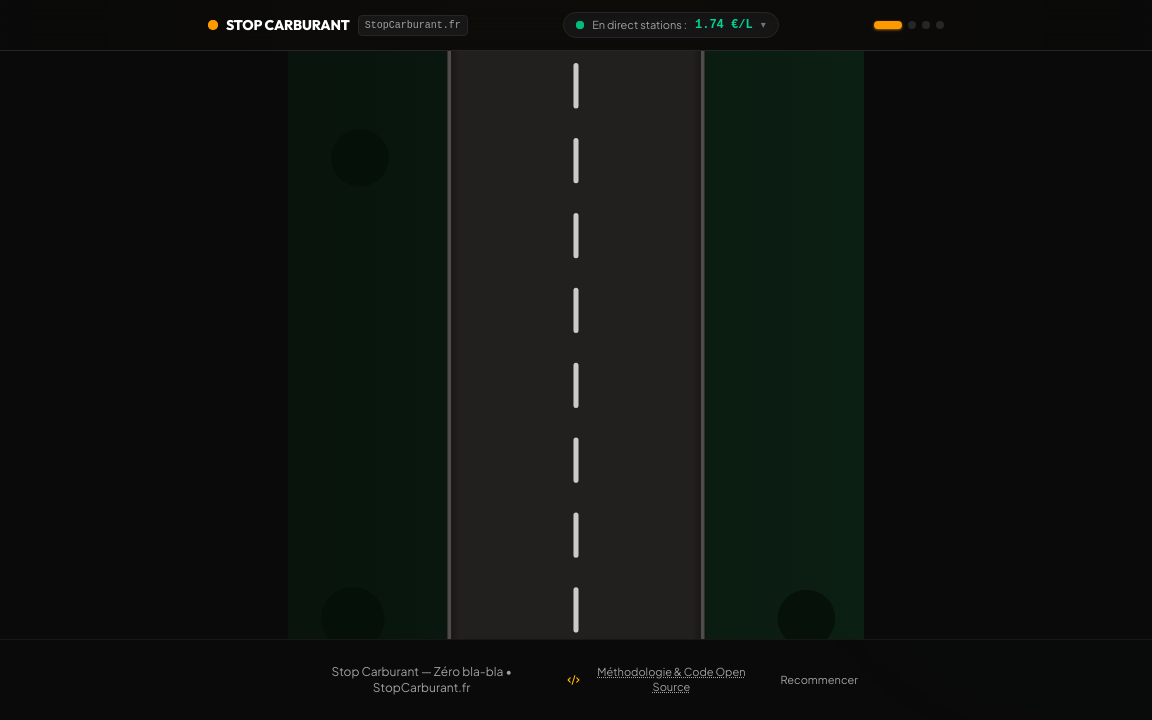
Test: Parcours utilisateur App (Stop-Carburant - Storytelling) › ouvre la modale de sélection de département et permet de choisir un département
This screenshot has width=1152, height=720.
Click the button titled "cliquer pour changer de département".
click(671, 25)  # box [563,12,779,38]
(page scrolled)
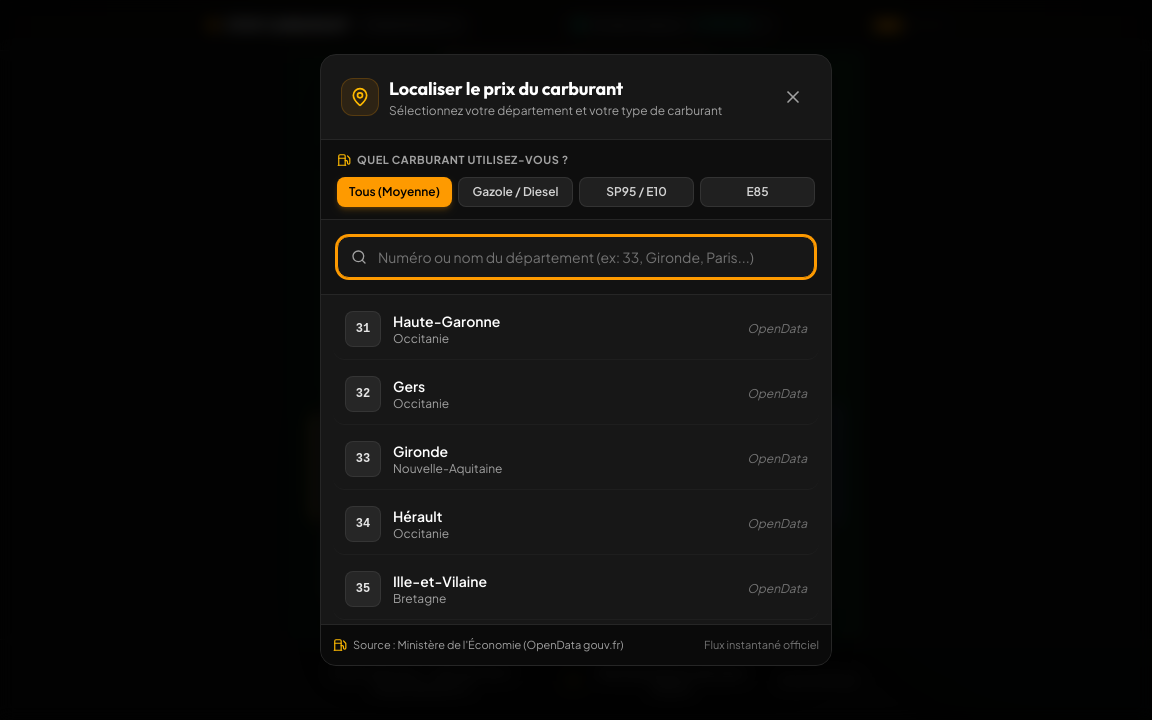
Expected: the heading "Localiser le prix du carburant" is shown, [389,77,623,100]
Expected: the button "33 Gironde Nouvelle-Aquitaine OpenData" is shown
Click the button "33 Gironde Nouvelle-Aquitaine OpenData".
click(363, 458)  # box [333,428,819,490]
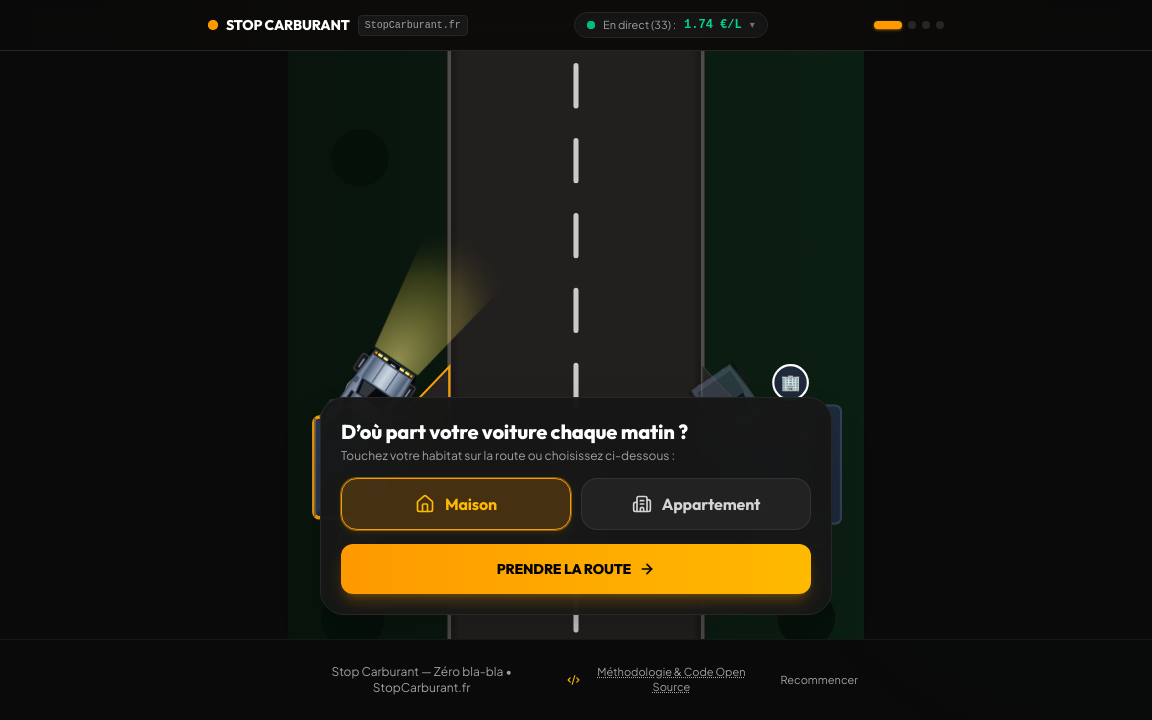
Expected: the text "En direct (33) :" is shown, [603,18,676,32]
